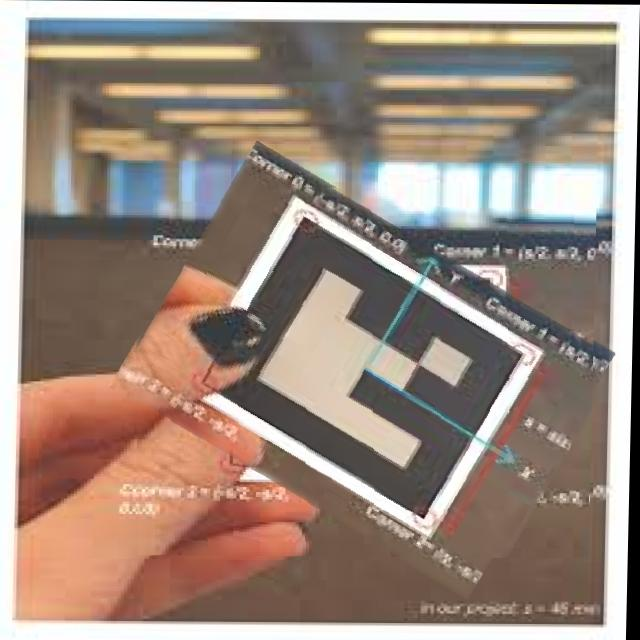aruco: (129, 183, 598, 557)
